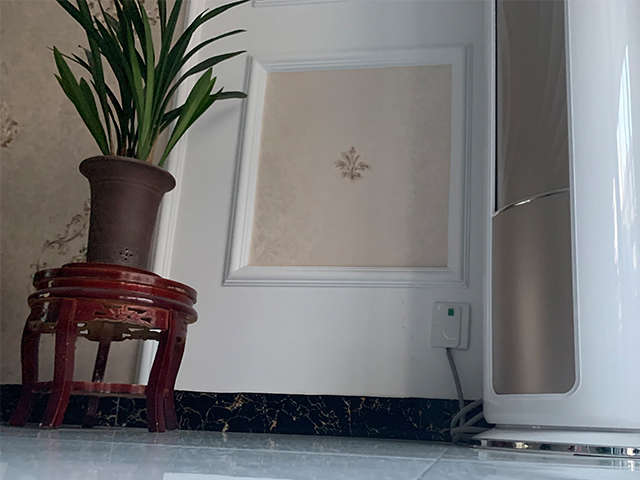stool: (19, 261, 199, 435)
wire: (443, 349, 491, 446)
